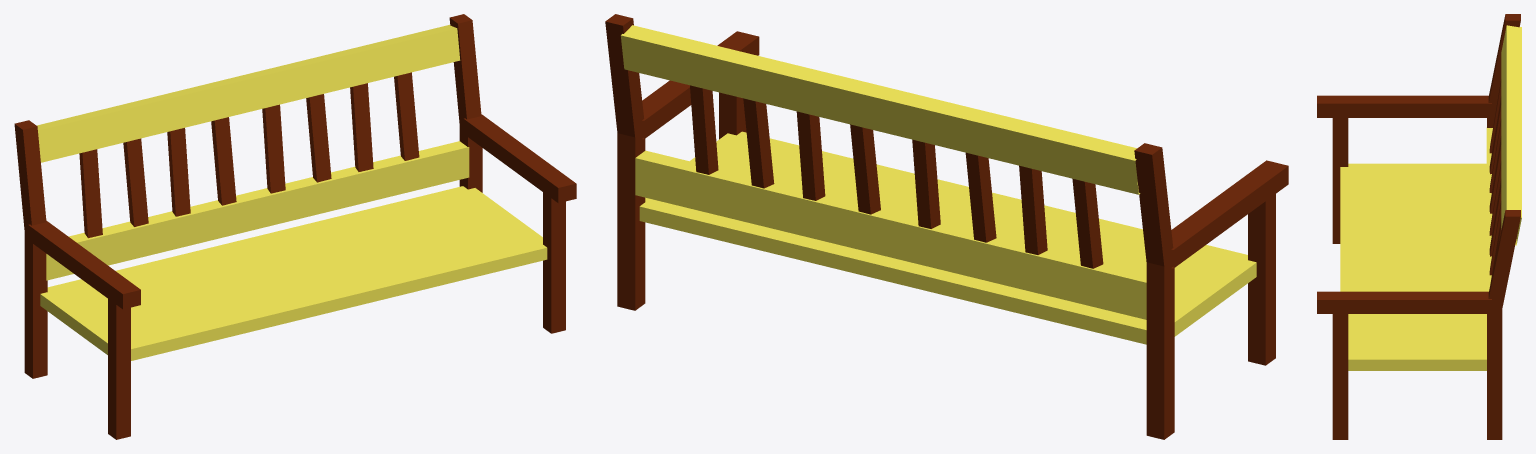
The model's file is bench_2.FBX.
3 renders of one model, left to right at view 1: azimuth 30°, elevation 25°; view 2: azimuth 150°, elevation 25°; view 3: azimuth 270°, elevation 25°, orthographic. The views are drawn at different scales.
Visible parts, largest first — view 1: bench_2; view 2: bench_2; view 3: bench_2.
Boxes of the visible parts, box(x1,y1,x2,y2) form: bench_2: box(14, 14, 576, 439); bench_2: box(605, 14, 1288, 439); bench_2: box(1317, 14, 1521, 439).
Size of the model in its own units: 2.73 by 1.39 by 1.16.
1 material, 1 textured.
